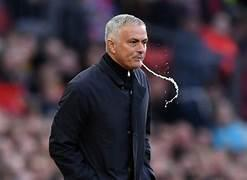Spitting: (98, 5, 163, 84)
